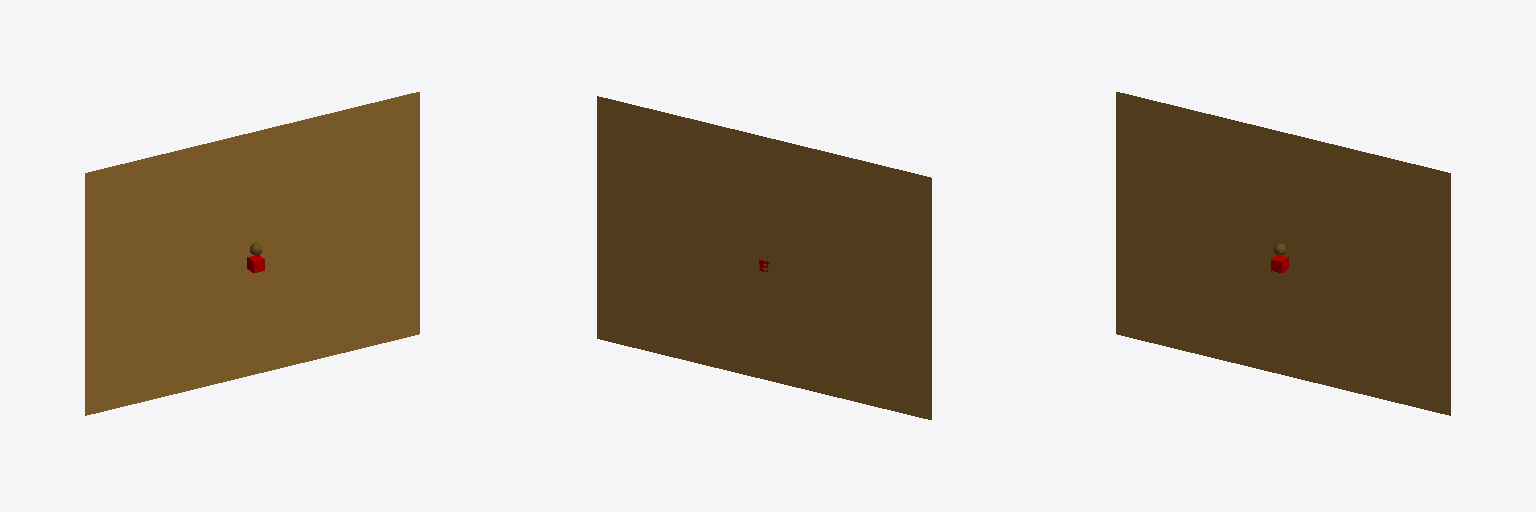
Rendered from cajaEsfera.obj.
3 renders of one model, left to right at view 1: azimuth 30°, elevation 25°; view 2: azimuth 150°, elevation 25°; view 3: azimuth 330°, elevation 25°, orthographic.
Parts seen in each view (by area): view 1: Plane01; view 2: Plane01; view 3: Plane01.
Boxes of the visible parts, x1,y1,x2,y2 form: Plane01: [85, 92, 419, 415]; Plane01: [597, 96, 931, 419]; Plane01: [1116, 92, 1450, 415].
Bounding box in the file's own units: 3039 × 2104 × 100.